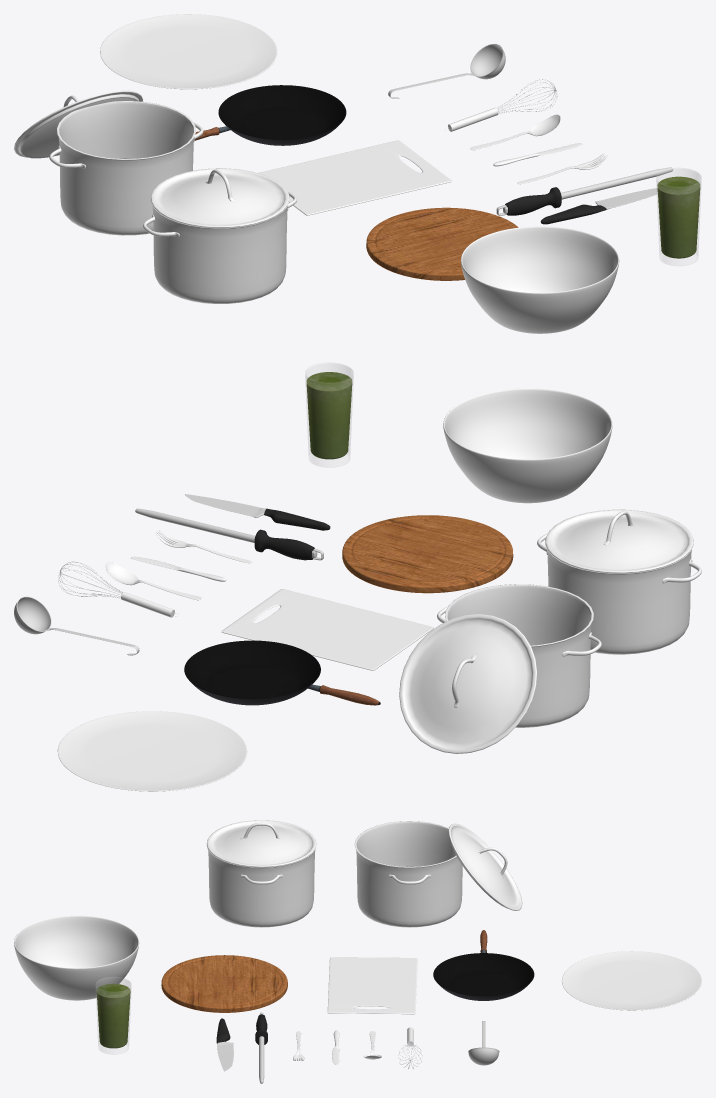
Rendered from KitchenPack.fbx.
3 views of the same model, one above another, from view 1: azimuth 30°, elevation 25°; view 2: azimuth 150°, elevation 25°; view 3: azimuth 270°, elevation 25° (orthographic). The views are drawn at different scales.
Visible parts, largest first — view 1: Pot_01.001, Bowl, Plade, Pot, Cutboard_Plastic, Cutboard_Wood, Pot_01_Top, Pan_01, Glas_Standard, Pot_01_Top.001, Knife_Sharpener, Ladle (+3 smaller); view 2: Bowl, Pot_01_Top.001, Plade, Cutboard_Wood, Pot_01.001, Pot, Cutboard_Plastic, Pot_01_Top, Pan_01, Glas_Standard, Knife_Sharpener, Knife_Large (+3 smaller); view 3: Pot_01.001, Bowl, Plade, Pot, Cutboard_Wood, Cutboard_Plastic, Pot_01_Top, Pan_01, Pot_01_Top.001, Glas_Standard, Knife_Large, Ladle (+1 smaller).
Part boxes in pixels (x1,y1,x2,y2): Pot_01.001: (49, 101, 203, 235); Bowl: (461, 226, 619, 333); Plade: (100, 14, 277, 89); Pot: (143, 190, 297, 303); Cutboard_Plastic: (258, 140, 451, 215); Cutboard_Wood: (366, 207, 518, 280); Pot_01_Top: (150, 168, 289, 227); Pan_01: (194, 85, 346, 145); Glas_Standard: (656, 168, 701, 265); Pot_01_Top.001: (14, 90, 142, 158); Knife_Sharpener: (496, 167, 673, 215); Ladle: (388, 44, 505, 98); Bowl: (443, 388, 612, 503); Pot_01_Top.001: (399, 614, 536, 753); Plade: (57, 711, 247, 791); Cutboard_Wood: (342, 515, 513, 593); Pot_01.001: (437, 584, 601, 727); Pot: (537, 533, 701, 654); Cutboard_Plastic: (221, 589, 433, 670); Pot_01_Top: (545, 509, 693, 573); Pan_01: (184, 640, 380, 705); Glas_Standard: (305, 362, 353, 467); Knife_Sharpener: (135, 508, 323, 560); Knife_Large: (184, 494, 330, 530); Pot_01.001: (354, 821, 462, 927); Bowl: (14, 915, 139, 1000); Plade: (562, 951, 701, 1010); Pot: (206, 844, 316, 927); Cutboard_Wood: (161, 955, 287, 1012); Cutboard_Plastic: (327, 957, 417, 1014); Pot_01_Top: (207, 820, 316, 867); Pan_01: (433, 930, 534, 1000); Pot_01_Top.001: (448, 823, 522, 910); Glas_Standard: (95, 977, 131, 1054); Knife_Large: (216, 1018, 233, 1071); Ladle: (468, 1021, 499, 1065).
Bounding box in the file's own units: 84.35 × 18 × 121.
Materials: 6 (6 with a texture image).
